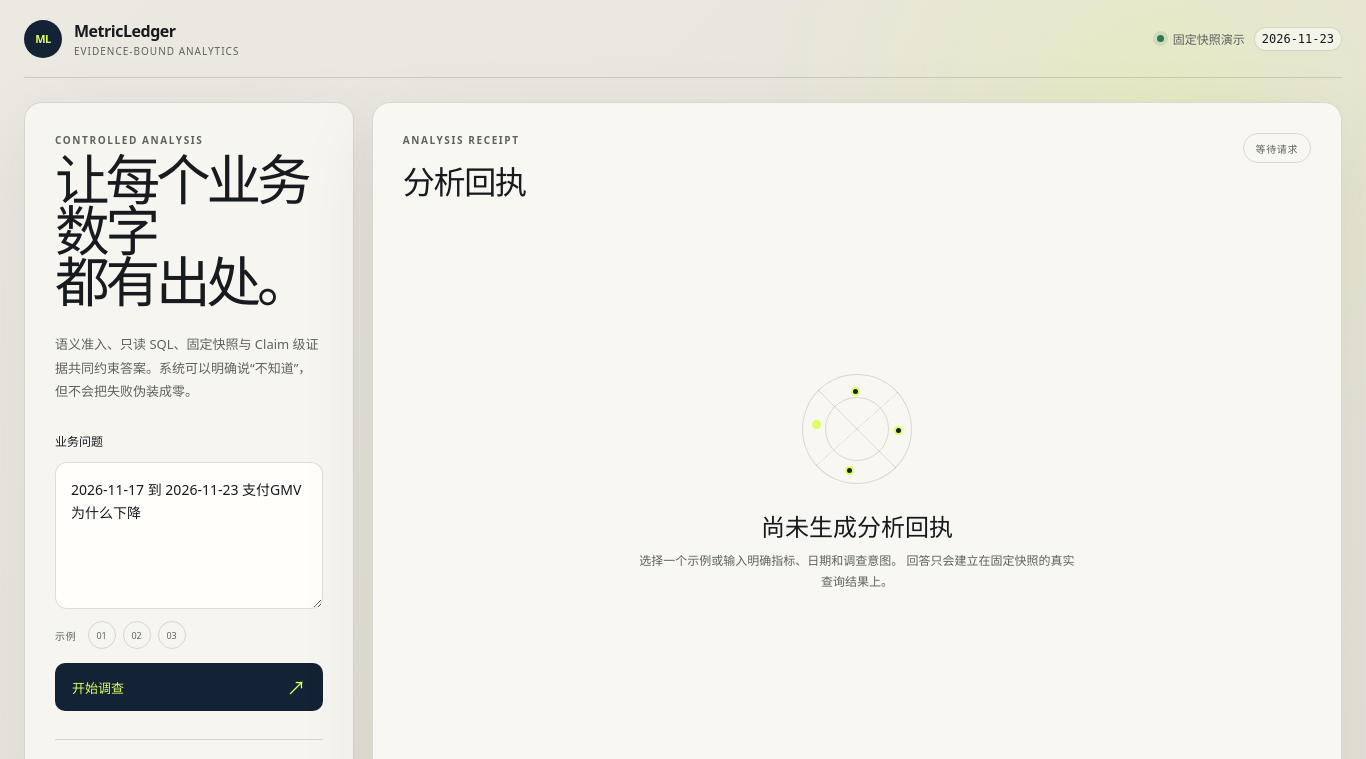
it: MetricLedger workbench › renders supported evidence and keeps SQL collapsed until requested
Click the button "开始调查 ↗". click: [98, 688]
box: [55,663,323,711]
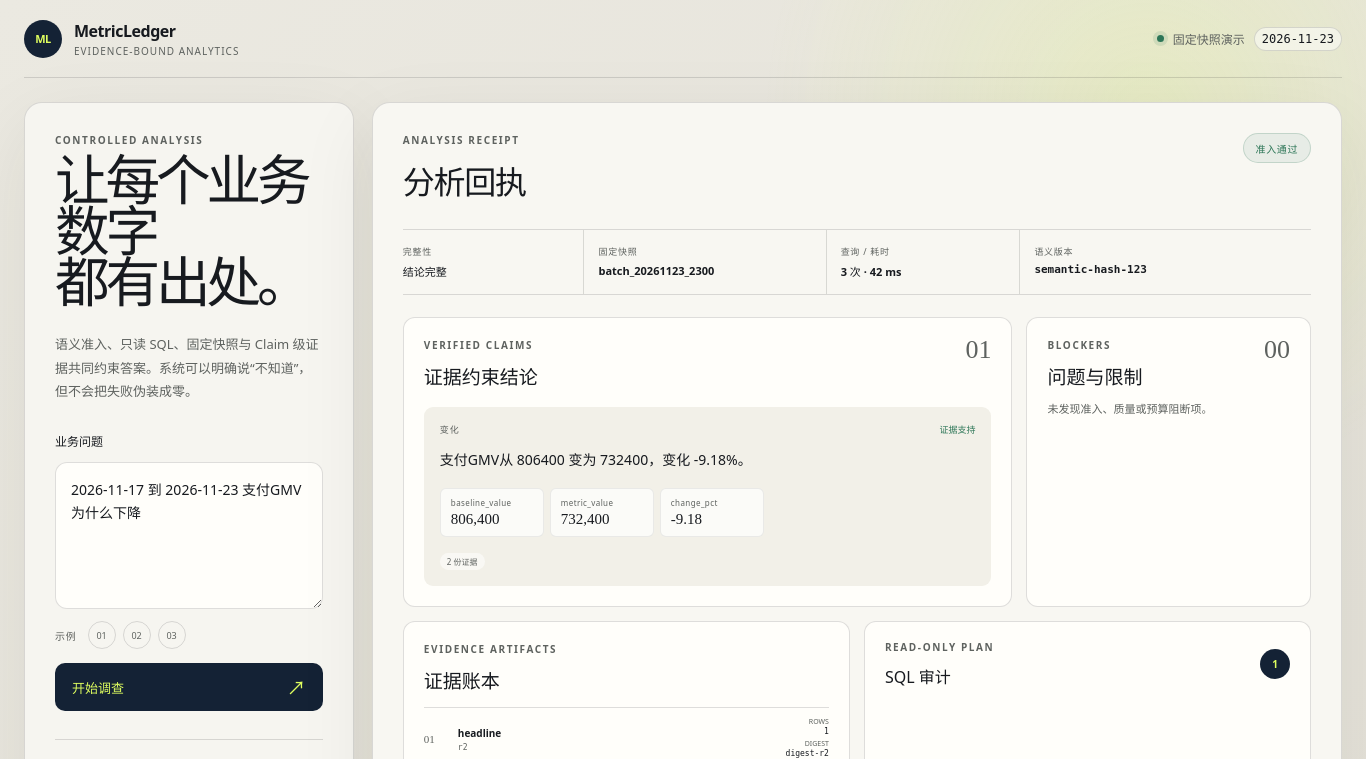
Now the text "支付GMV从 806400 变为 732400，变化 -9.18%。" is shown, box [440,450,752,469]
Now the element with test id "claim-list" is shown, box [424,407,991,586]
Now the text "semantic-hash-123" is shown, box [1034,263,1147,276]
Click the text "READ-ONLY PLAN SQL 审计". click: [940, 664]
box: [885,640,994,688]
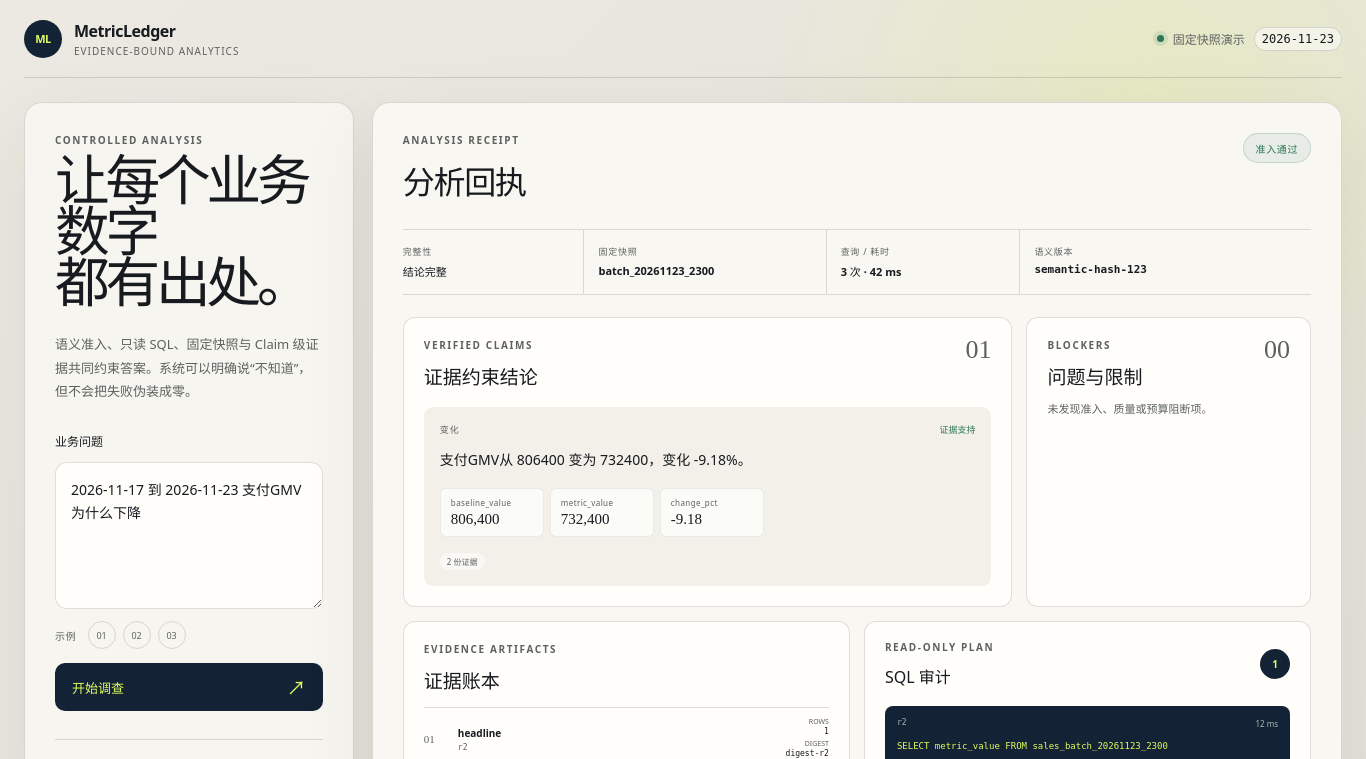
Now the text "SELECT metric_value FROM sales_batch_20261123_2300" is shown, box [897,741,1168,751]
